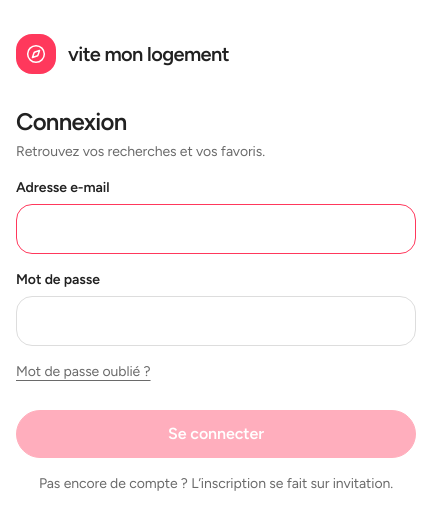
Test: AuthGate : connexion › affiche le message du serveur si les identifiants sont refusés, sans ouvrir l’application
Expected: the heading "Connexion" is shown, [16,107,127,136]
Step 1. Type "moi@example.com" into the field labelled "Adresse e-mail" → [216, 229], box [16,204,416,254]
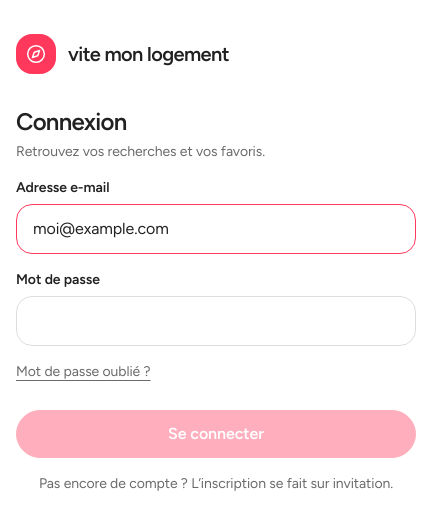
Step 2. Type "mauvais-1" into the password field labelled "Mot de passe" → [216, 321], box [16,296,416,346]
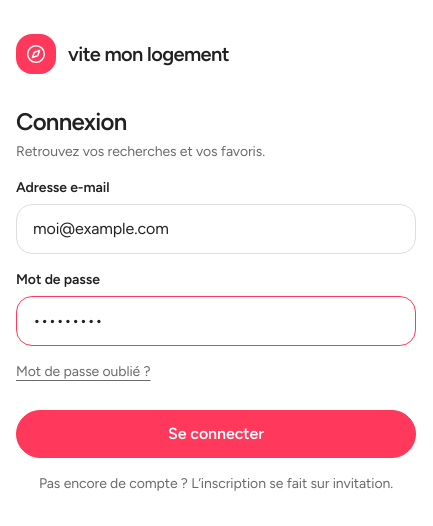
Step 3. Click the button "Se connecter" → [216, 434], box [16,410,416,458]
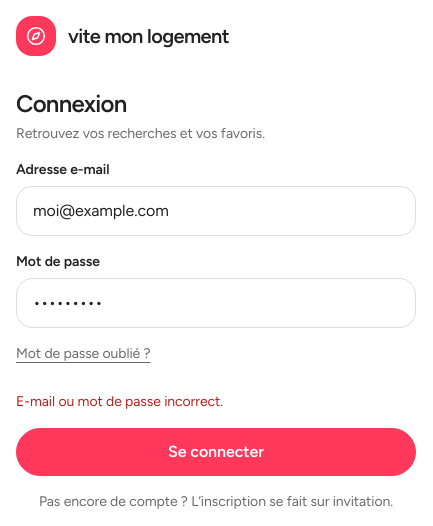
Result: the message reads "E-mail ou mot de passe incorrect." at [16,393,223,410]
